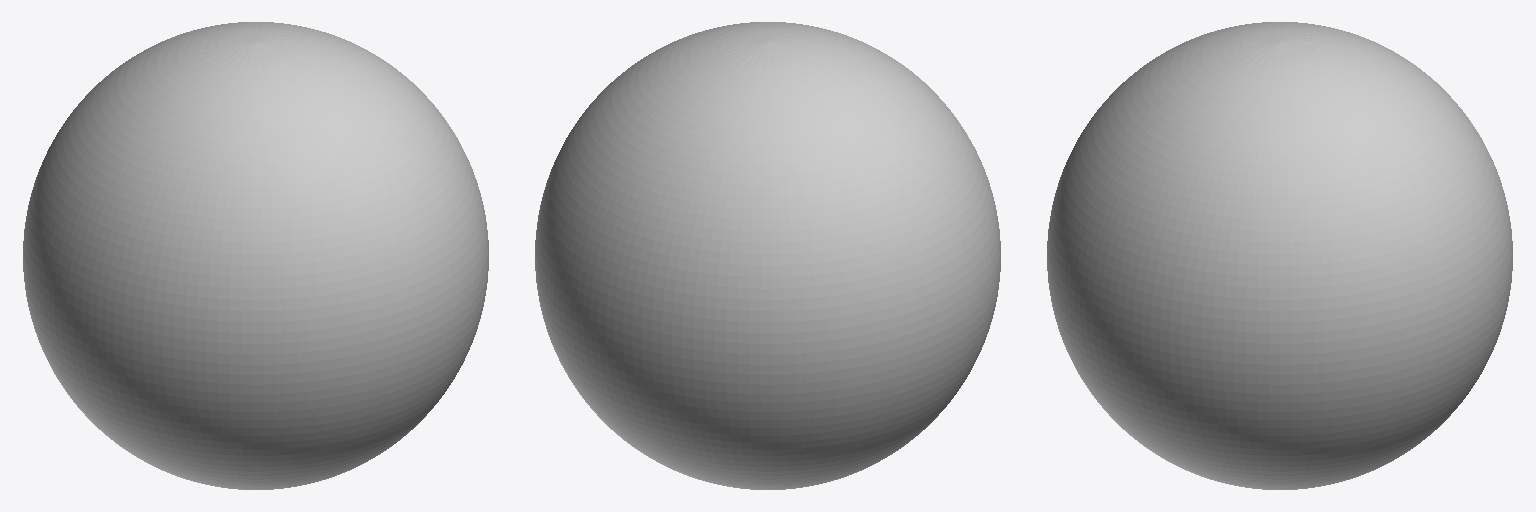
3 views of the same model, side by side, from view 1: azimuth 30°, elevation 25°; view 2: azimuth 150°, elevation 25°; view 3: azimuth 270°, elevation 25° (orthographic).
Parts seen in each view (by area): view 1: REPLACE_ME_Sphere; view 2: REPLACE_ME_Sphere; view 3: REPLACE_ME_Sphere.
Boxes of the visible parts, x1=… form: REPLACE_ME_Sphere: x1=23, y1=22, x2=488, y2=489; REPLACE_ME_Sphere: x1=535, y1=22, x2=1000, y2=489; REPLACE_ME_Sphere: x1=1047, y1=22, x2=1512, y2=489.
Size of the model in its own units: 1.98 by 2 by 1.98.